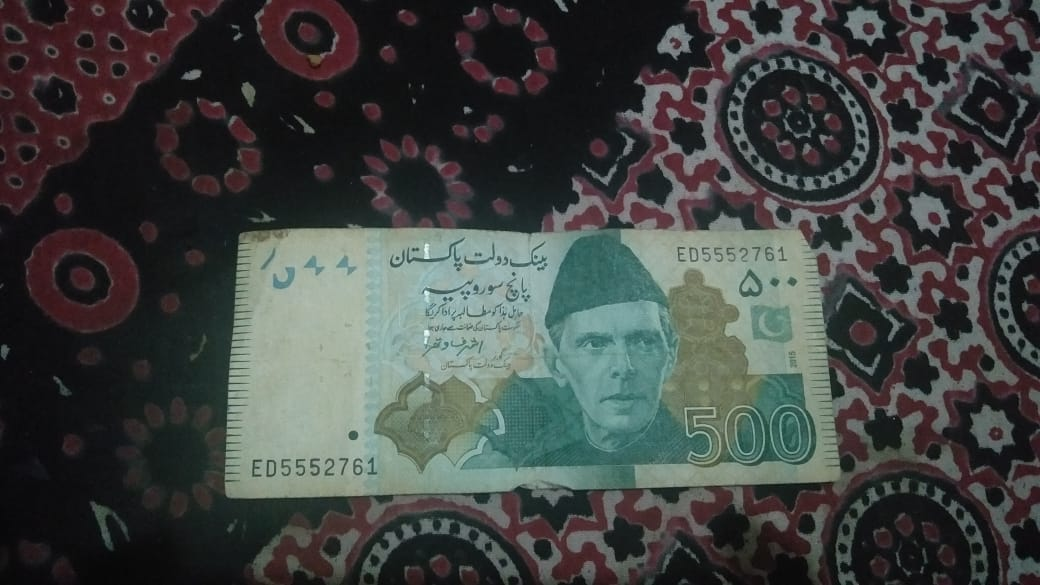500 rupee: (232, 228, 853, 516)
